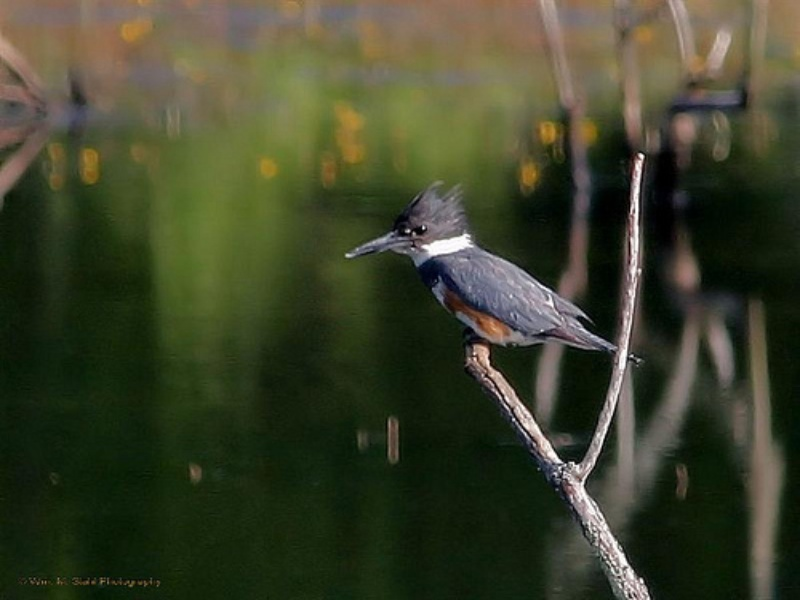kingfisher: (338, 176, 647, 380)
